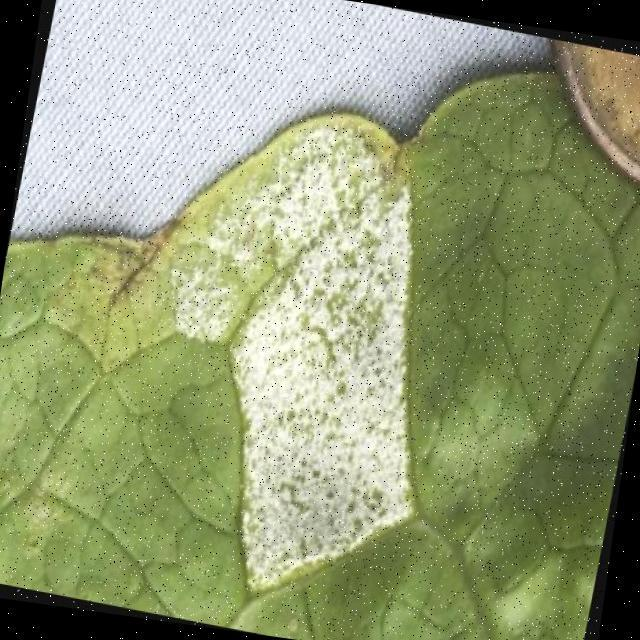Powdery_Mildew: (166, 142, 488, 640)
